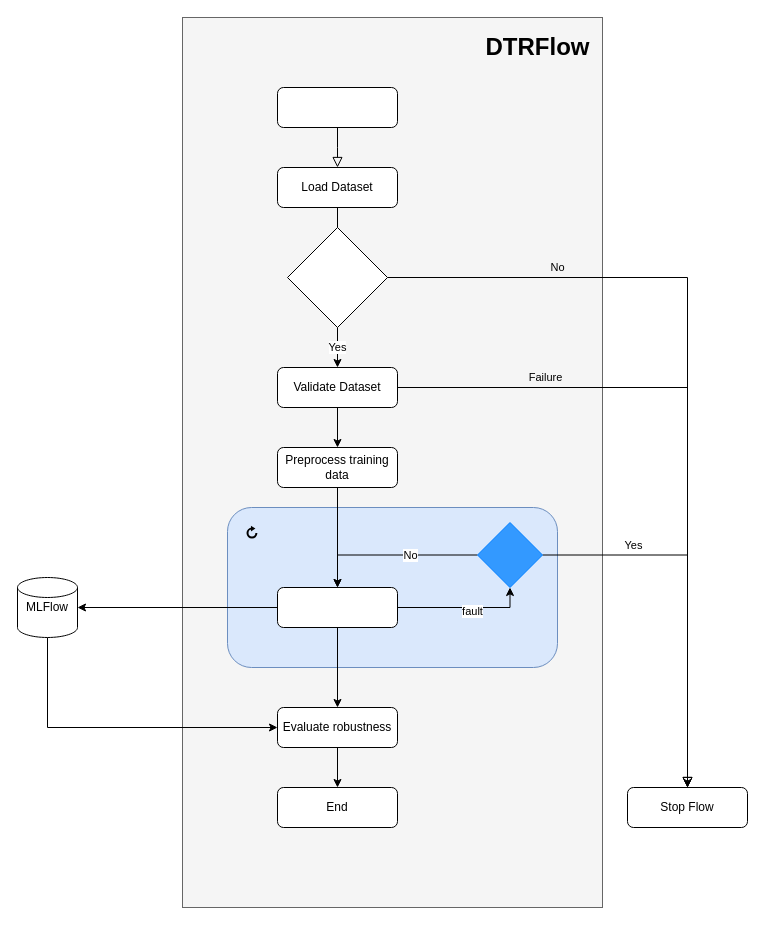
Some shapes in this 765 by 925 pixel diagram are drawn without their labels. Each missing label, with the centre of its shape:
Dataset is large enough: point (337, 277)
max retry reached: point (509, 555)
Start: point (337, 107)
Train: point (337, 607)
